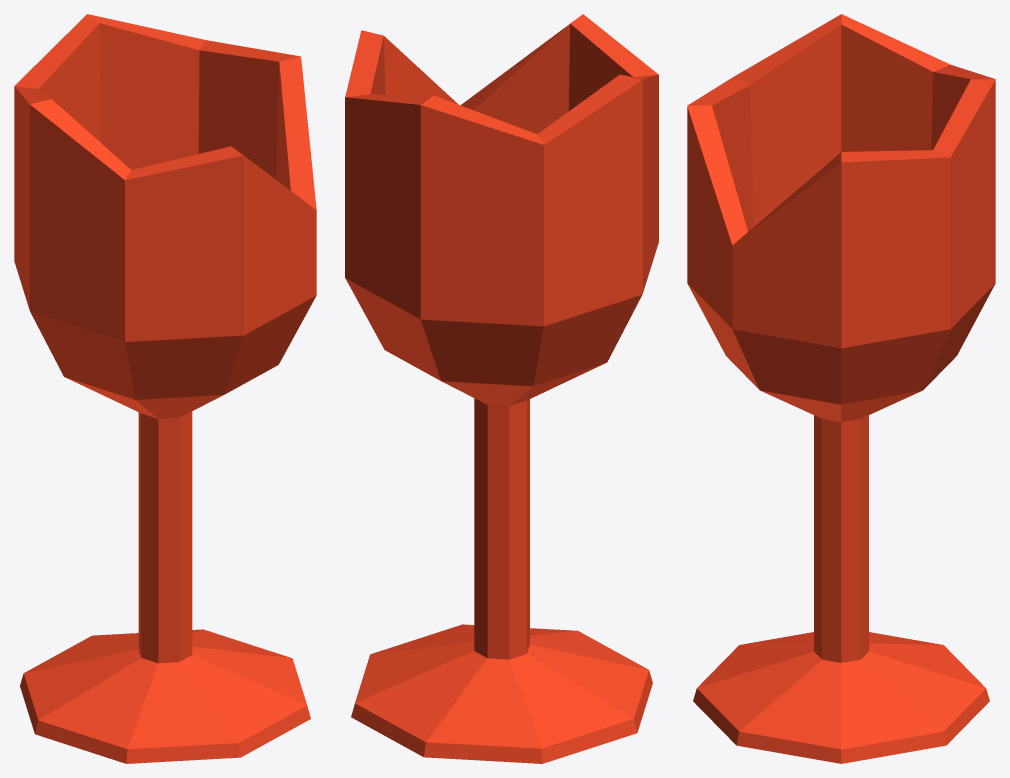
The model's file is SM_Vine_Glass_Broken_A_City.fbx.
3 renders of one model, left to right at view 1: azimuth 30°, elevation 25°; view 2: azimuth 150°, elevation 25°; view 3: azimuth 270°, elevation 25°, orthographic. The views are drawn at different scales.
Parts seen in each view (by area): view 1: SM_Vine_Glass_Broken_A_City; view 2: SM_Vine_Glass_Broken_A_City; view 3: SM_Vine_Glass_Broken_A_City.
Boxes of the visible parts, x1,y1,x2,y2 form: SM_Vine_Glass_Broken_A_City: (14, 14, 316, 763); SM_Vine_Glass_Broken_A_City: (345, 14, 658, 763); SM_Vine_Glass_Broken_A_City: (687, 14, 995, 763).
Size of the model in its own units: 0.0966 by 0.2148 by 0.0966.
